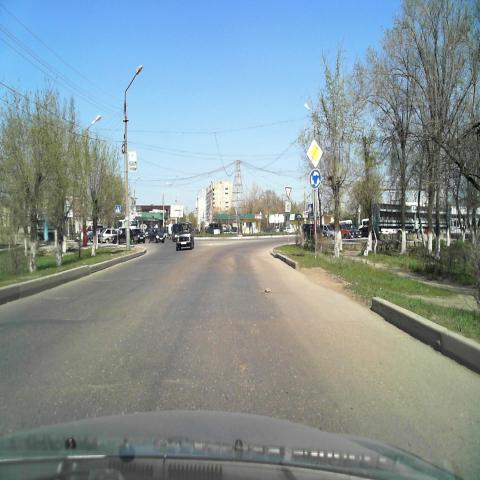4_3: (310, 168, 322, 190)
